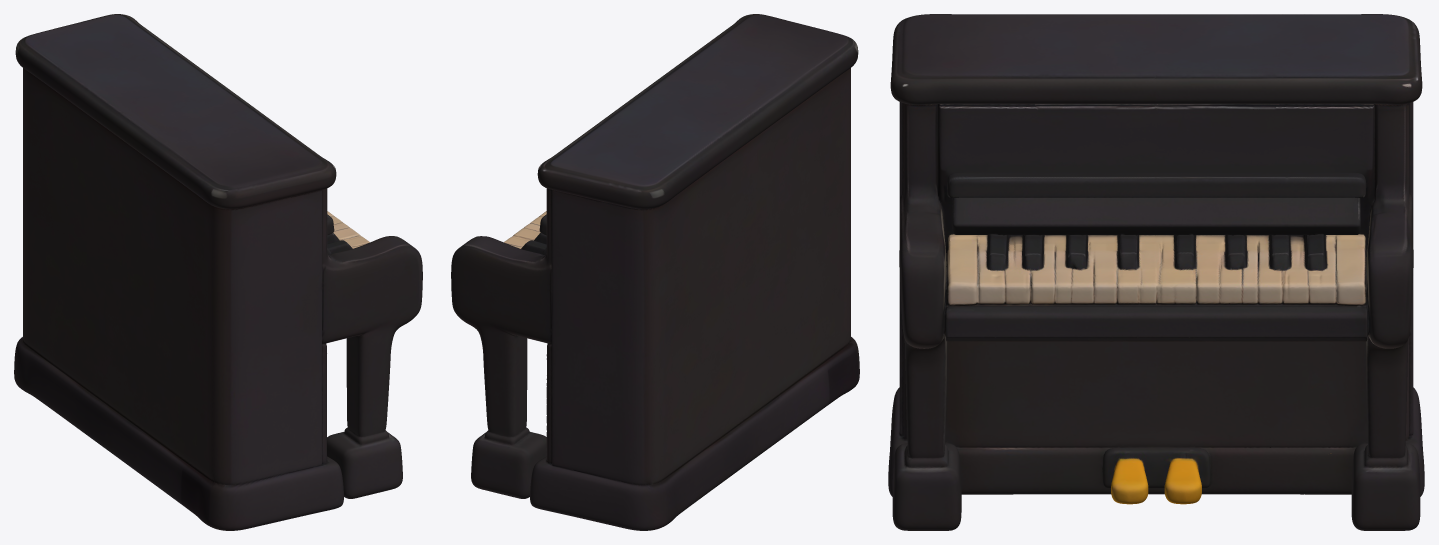
Rendered from piano.glb.
3 renders of one model, left to right at view 1: azimuth 30°, elevation 25°; view 2: azimuth 150°, elevation 25°; view 3: azimuth 270°, elevation 25°, orthographic. The views are drawn at different scales.
Parts seen in each view (by area): view 1: tripo_node_9b4a71b9-607e-4dd4-858a-19fd47be47ab; view 2: tripo_node_9b4a71b9-607e-4dd4-858a-19fd47be47ab; view 3: tripo_node_9b4a71b9-607e-4dd4-858a-19fd47be47ab.
Part boxes in pixels (box(x1,y1,x2,y2)): tripo_node_9b4a71b9-607e-4dd4-858a-19fd47be47ab: box(14, 14, 422, 530); tripo_node_9b4a71b9-607e-4dd4-858a-19fd47be47ab: box(451, 14, 859, 530); tripo_node_9b4a71b9-607e-4dd4-858a-19fd47be47ab: box(888, 14, 1424, 530).
Size of the model in its own units: 0.5527 by 0.8645 by 1.
1 material, 1 textured.
